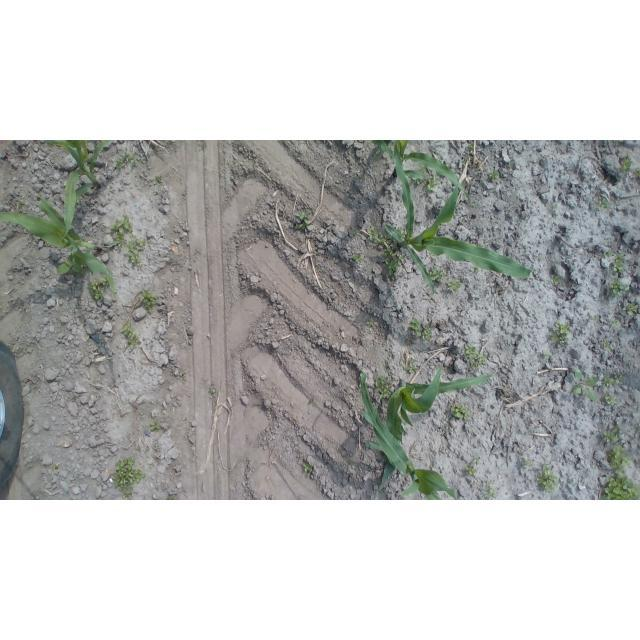Maize: (370, 140, 532, 294), (366, 370, 494, 495), (357, 371, 458, 500), (0, 197, 116, 298), (46, 140, 114, 245), (391, 141, 471, 204), (374, 140, 391, 160)
Weeds: (111, 455, 145, 500), (601, 474, 639, 500), (572, 369, 599, 403), (607, 443, 633, 475), (536, 460, 561, 492), (111, 214, 134, 247), (126, 234, 147, 270), (384, 244, 406, 276), (463, 343, 488, 371), (409, 317, 433, 340), (121, 321, 140, 350), (88, 275, 108, 302), (292, 206, 313, 231), (113, 147, 136, 169), (550, 323, 571, 346), (368, 224, 392, 244), (56, 260, 85, 276), (610, 277, 631, 298), (376, 373, 392, 399), (465, 453, 482, 476), (140, 290, 156, 313), (603, 424, 621, 444), (451, 403, 470, 421), (428, 265, 448, 282), (426, 172, 441, 193), (612, 253, 626, 274), (483, 480, 498, 499), (446, 277, 462, 294), (620, 153, 633, 173), (604, 374, 623, 386), (622, 301, 636, 316), (594, 198, 608, 211), (604, 392, 618, 404), (352, 252, 363, 264), (150, 419, 161, 431), (489, 170, 499, 183), (404, 365, 419, 373), (604, 338, 613, 351), (303, 462, 313, 473), (153, 175, 163, 185), (366, 317, 375, 328), (604, 250, 615, 259), (524, 459, 534, 468), (550, 275, 559, 285), (197, 143, 207, 152), (350, 228, 359, 237), (589, 315, 598, 324), (411, 178, 421, 186), (181, 371, 189, 381), (355, 171, 364, 179), (610, 318, 619, 326), (349, 459, 355, 470), (407, 358, 418, 364), (461, 155, 467, 166), (473, 266, 481, 274), (17, 200, 25, 208), (543, 350, 550, 359), (166, 493, 175, 500), (50, 464, 59, 471), (635, 167, 640, 178), (307, 399, 314, 406), (553, 205, 560, 212), (385, 360, 390, 368), (473, 243, 483, 247), (470, 142, 475, 150), (149, 463, 155, 469), (446, 424, 451, 431), (212, 387, 217, 394), (154, 486, 159, 491), (637, 424, 640, 431), (440, 451, 445, 455), (195, 248, 200, 252), (616, 140, 624, 142)
